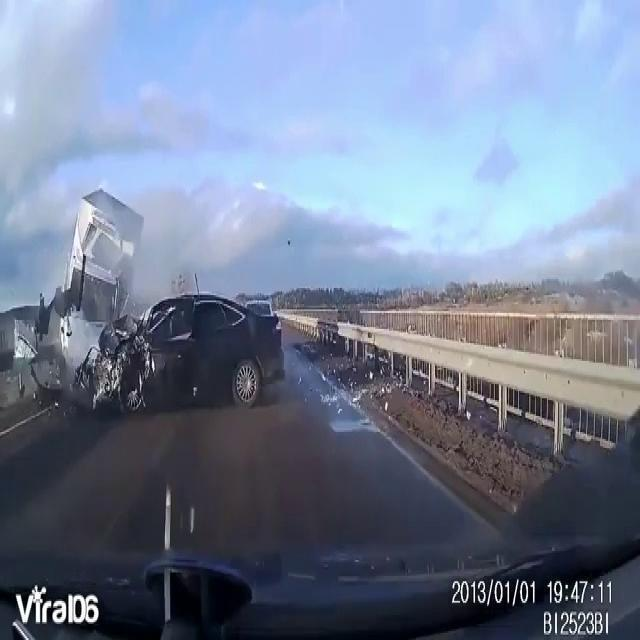multiple_accident: (29, 209, 171, 430)
